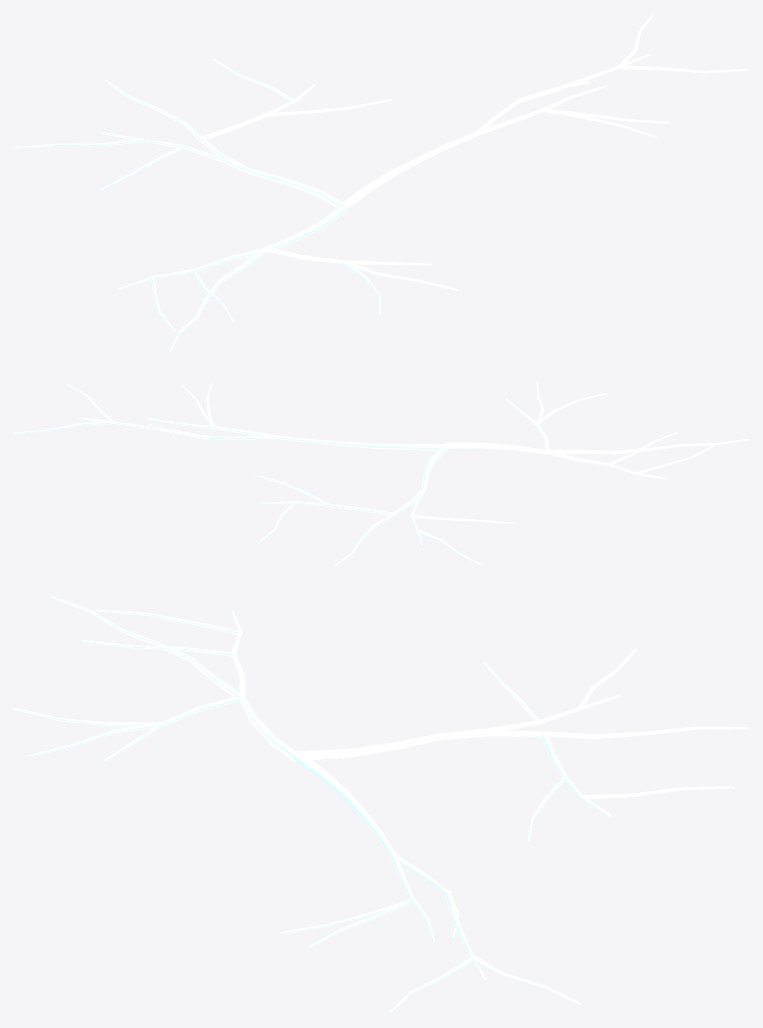
File: mycelium_patch.glb
3 renders of one model, top to bottom at view 1: azimuth 30°, elevation 25°; view 2: azimuth 150°, elevation 25°; view 3: azimuth 270°, elevation 25°, orthographic. The views are drawn at different scales.
Visible parts, largest first — view 1: MyceliumPatch; view 2: MyceliumPatch; view 3: MyceliumPatch.
Boxes of the visible parts, box(x1,y1,x2,y2) form: MyceliumPatch: box(14, 14, 748, 351); MyceliumPatch: box(14, 381, 748, 566); MyceliumPatch: box(14, 595, 748, 1013).
Bounding box in the file's own units: 1.15 × 0.0125 × 0.8588.
